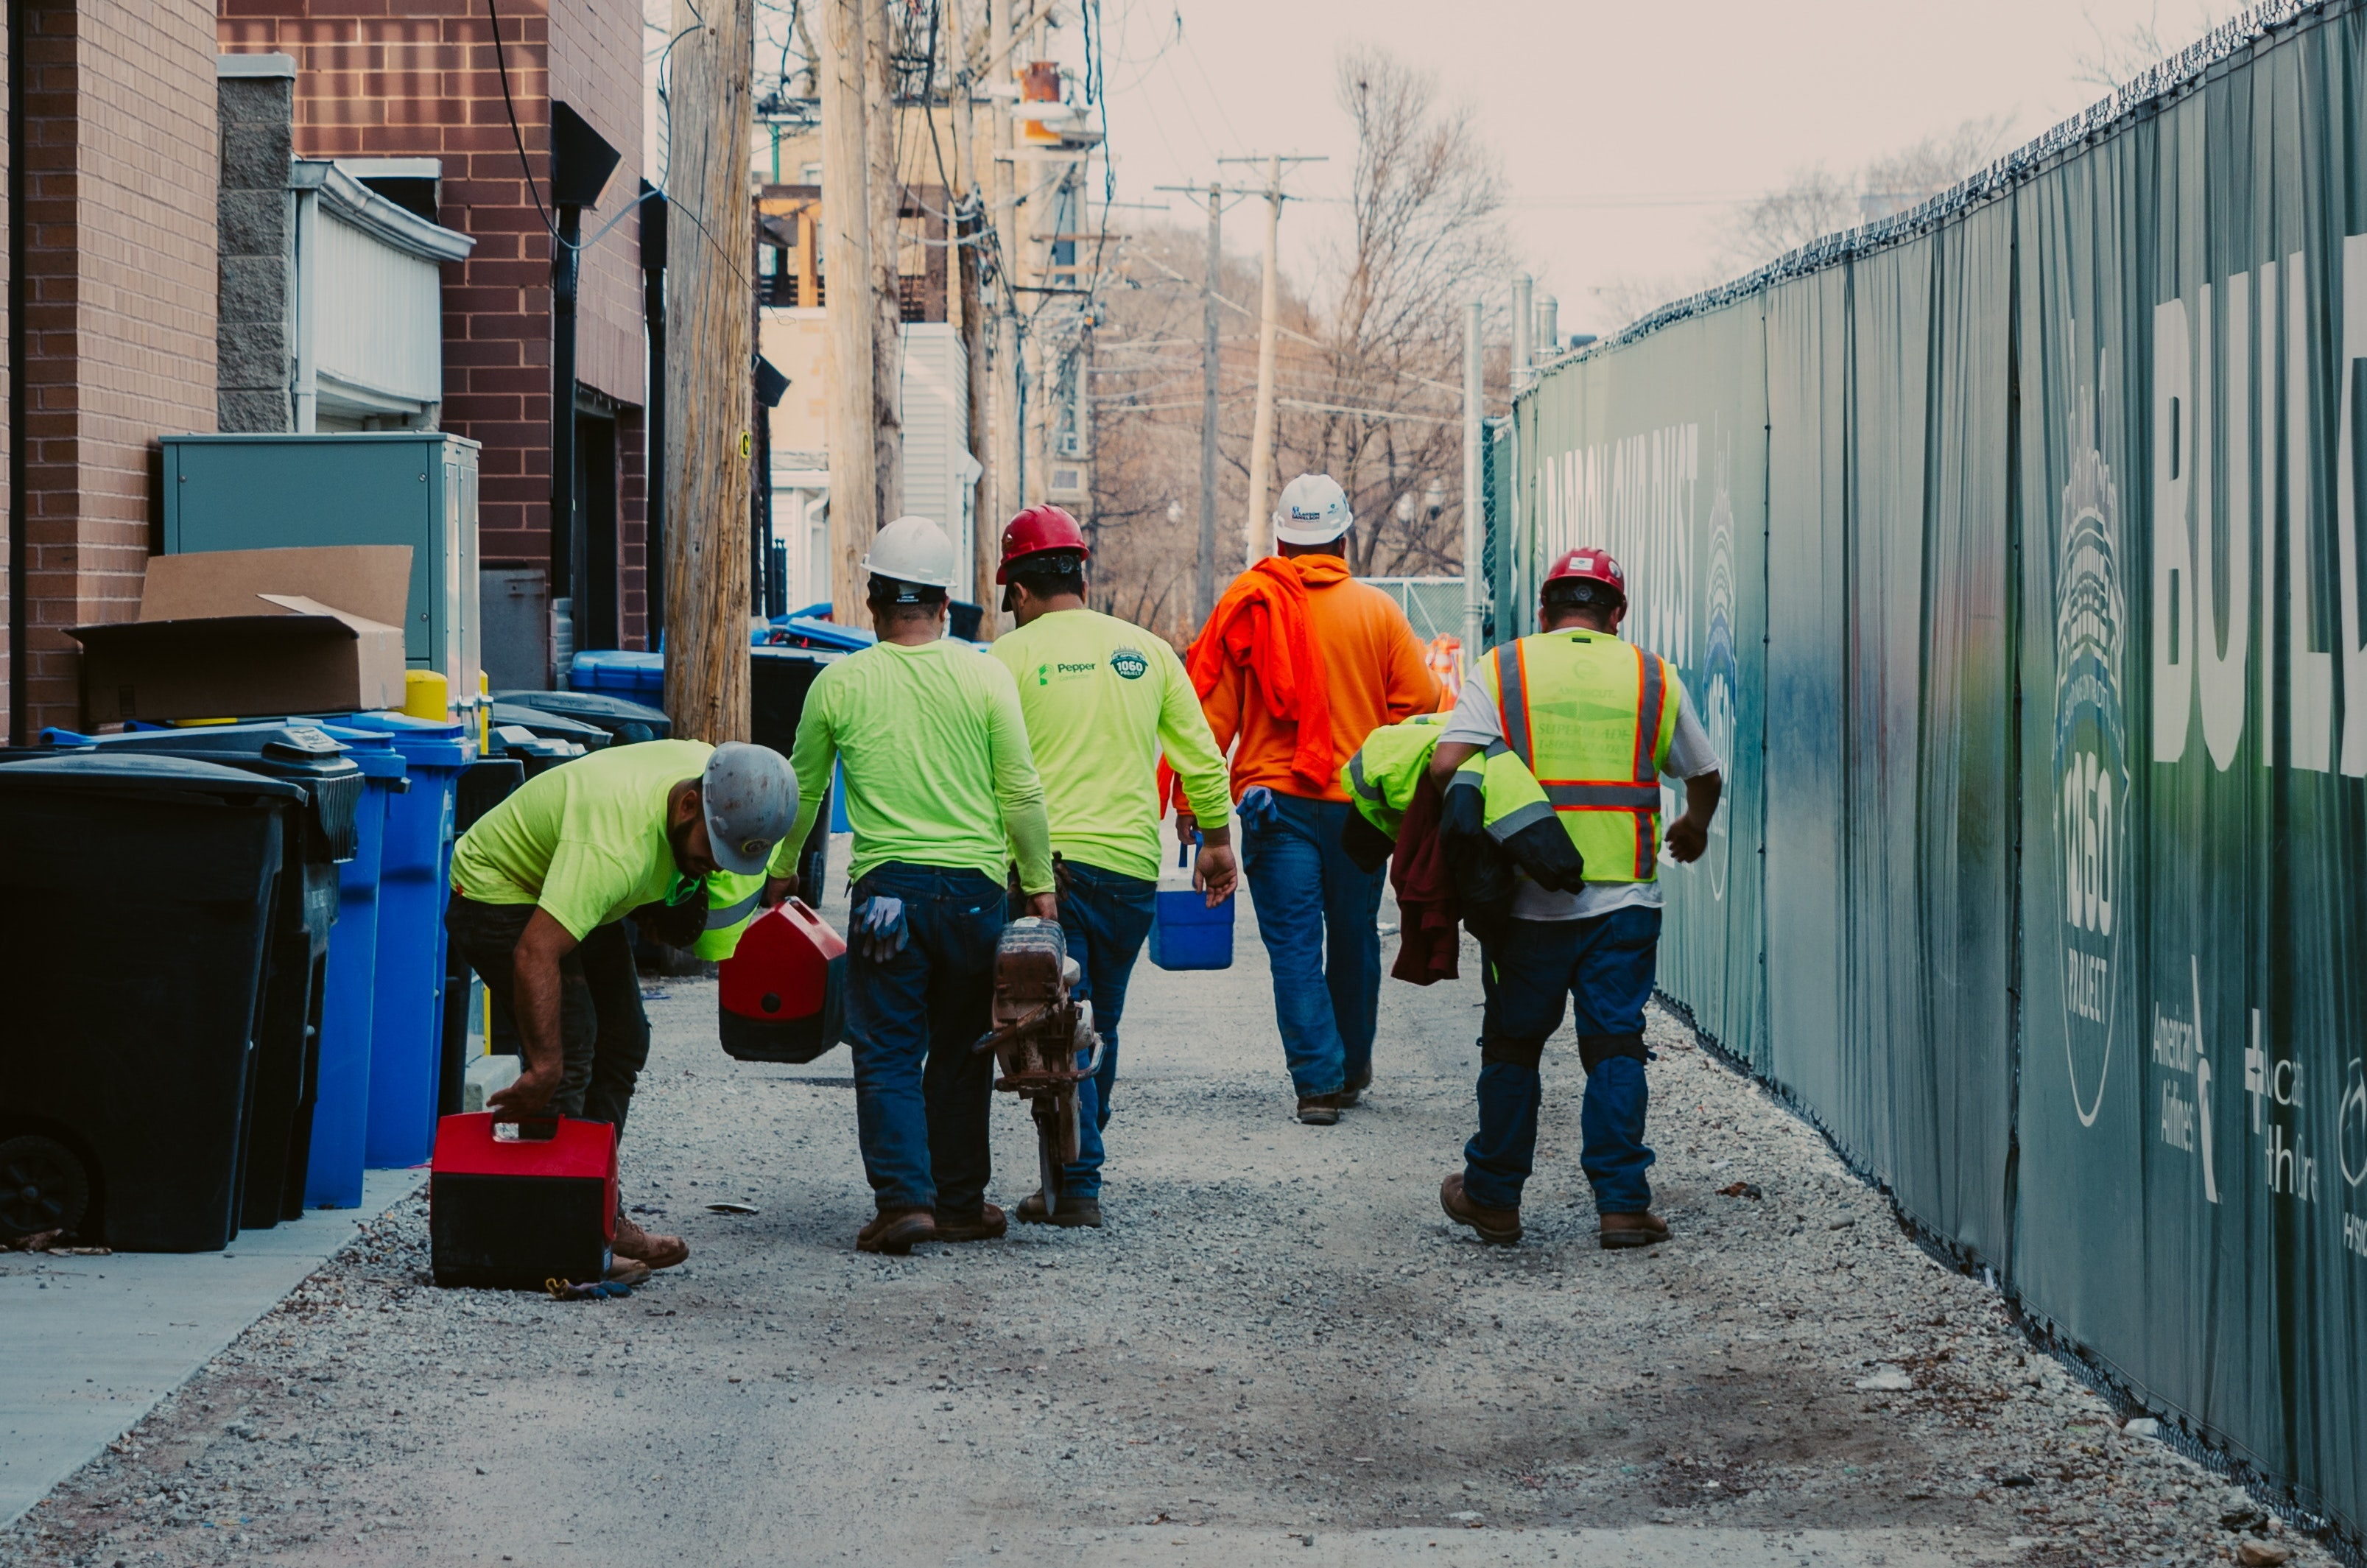blue: (665, 724, 799, 884)
red: (995, 504, 1092, 619), (1536, 544, 1627, 635)
white: (855, 513, 957, 637), (1268, 471, 1354, 565)
